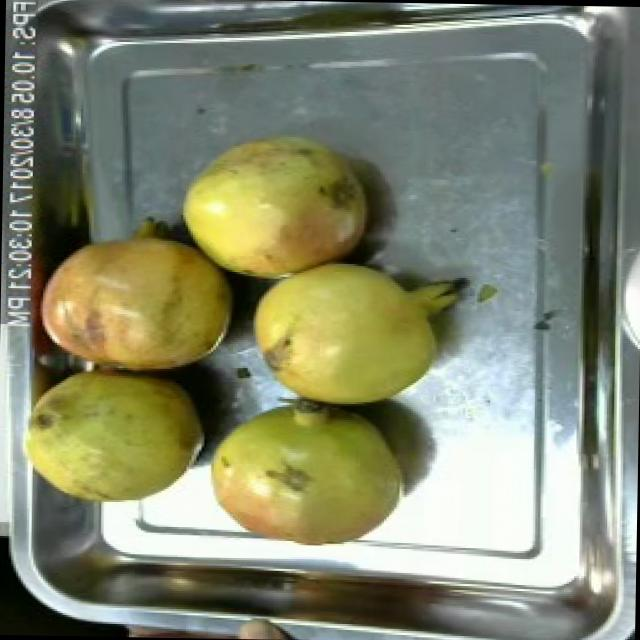fruit: (26, 213, 245, 383), (237, 250, 466, 412), (190, 392, 418, 552), (166, 121, 384, 287), (11, 354, 222, 522)
